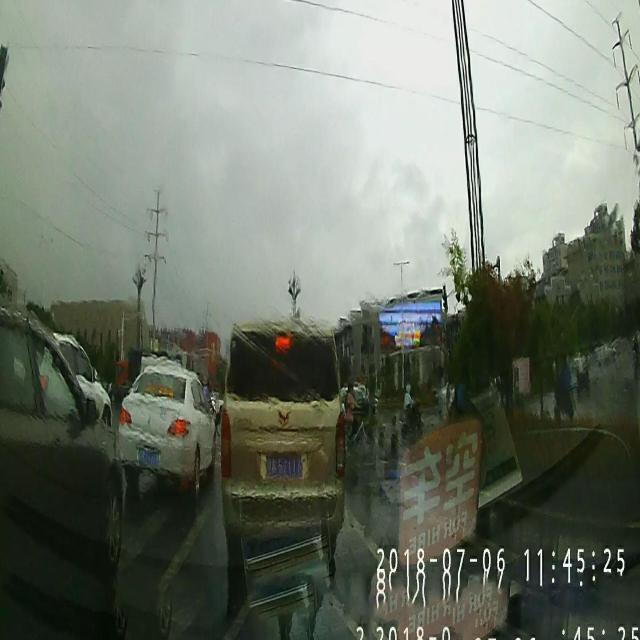car: (0, 308, 122, 576), (220, 322, 344, 540), (117, 358, 216, 500), (35, 332, 109, 432)
